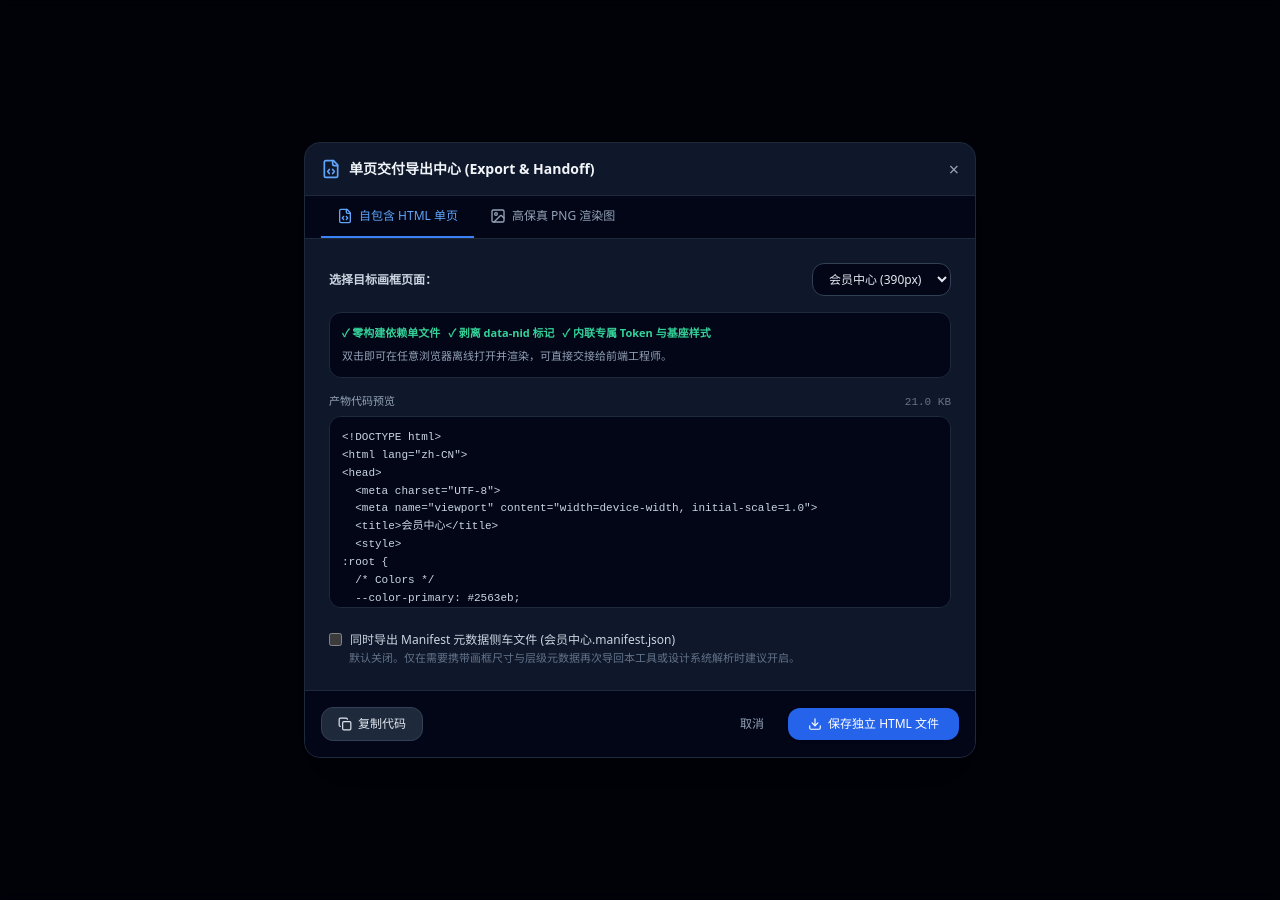
Scenario: 导出保存对话框与完成反馈 (Export Save Dialog & Feedback) › CHK-F-04 ~ CHK-F-06: 完成反馈 (BR-SAVE-05) › CHK-F-04: 保存成功后出现绿色完成反馈，并显示文件名
Click the button "保存独立 HTML 文件". click: point(874, 724)
box: [788,708,959,740]
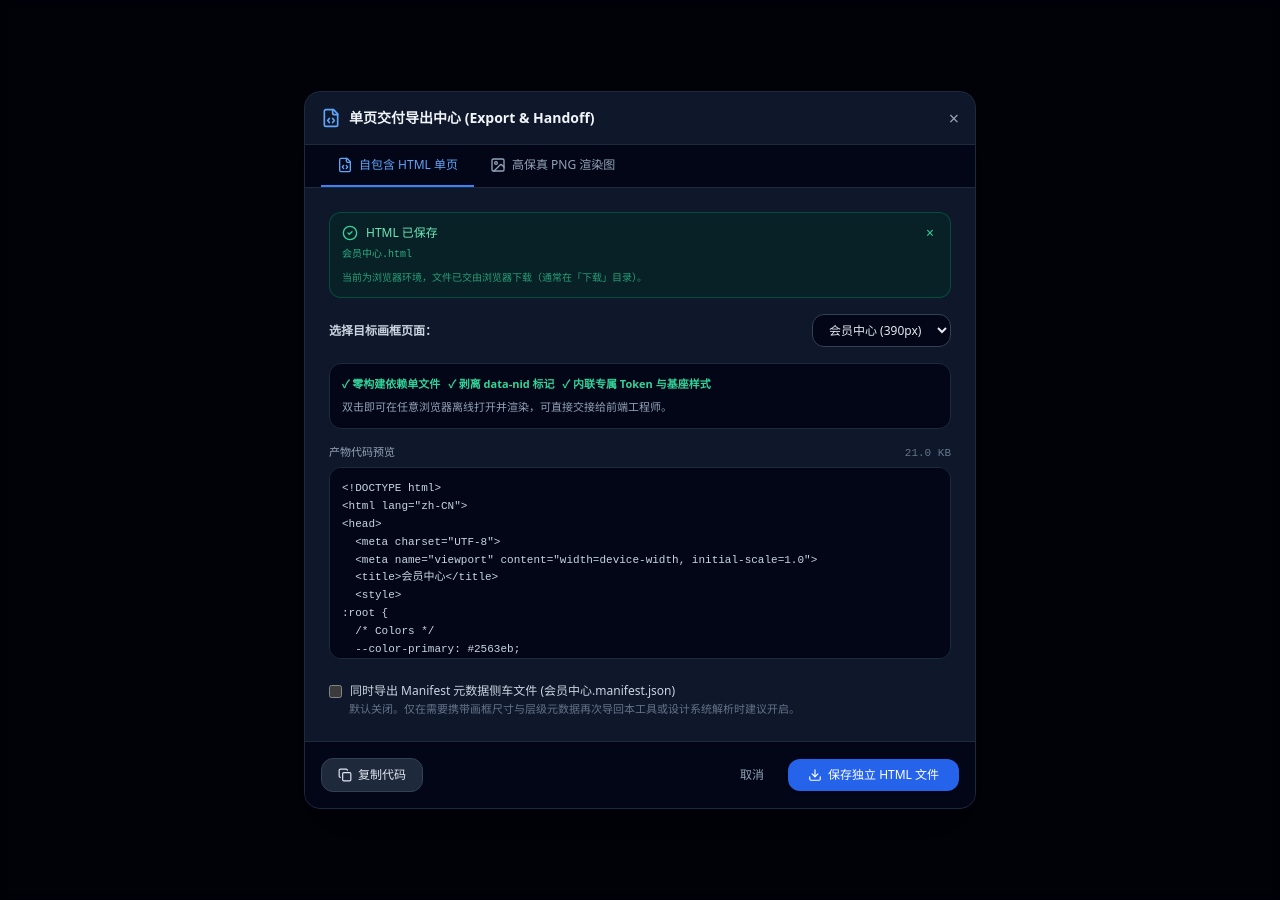
Expected: the element with test id "export-success-banner" shows "HTML 已保存", [329,212,951,298]
Expected: the element with test id "export-success-banner" shows "会员中心.html", [342,249,412,260]
